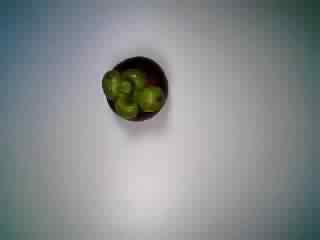mangosteen: (91, 54, 174, 129)
